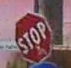stop: (14, 10, 51, 63)
